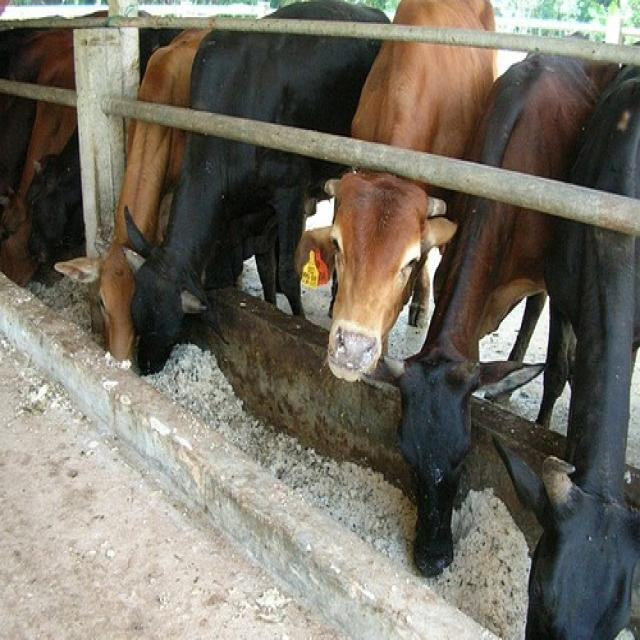cow: (384, 44, 618, 575), (127, 3, 389, 375), (522, 43, 638, 638), (321, 1, 494, 382), (59, 19, 211, 359), (0, 38, 76, 282), (27, 120, 81, 263)
